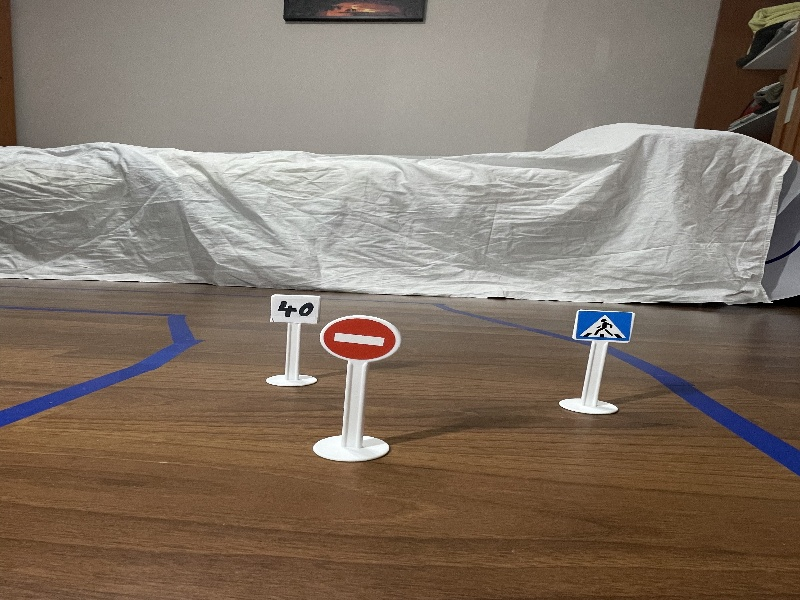interzis: (320, 309, 404, 368)
trecere_pietoni: (573, 306, 635, 350)
viteza_limita_40: (263, 285, 322, 326)
